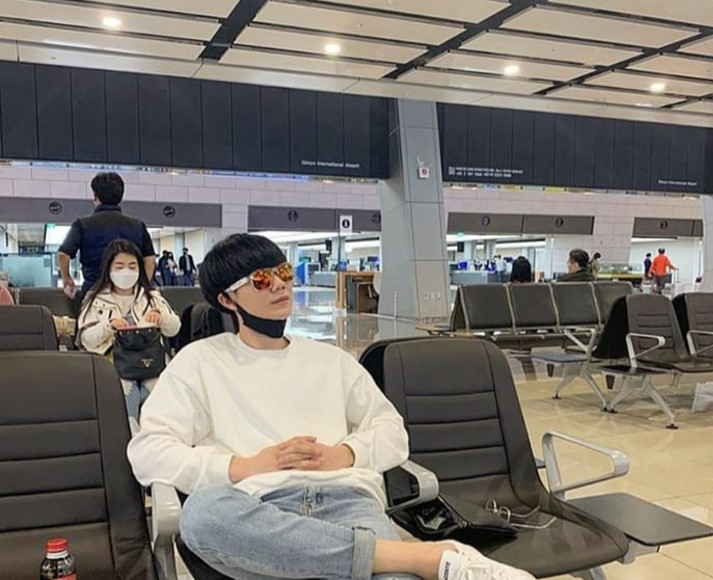face_with_mask: (198, 234, 294, 335), (106, 243, 140, 291)
